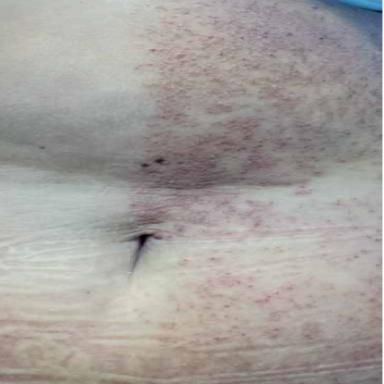Darier_s-Disease: (122, 0, 383, 384)
